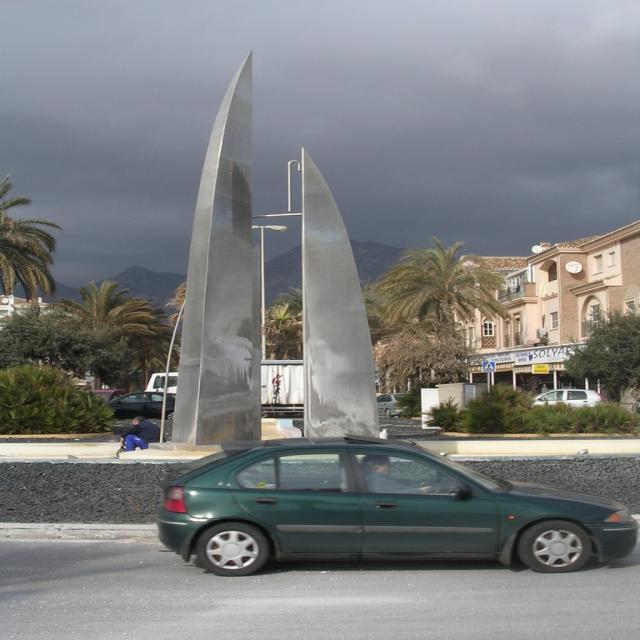car: (158, 433, 639, 571)
